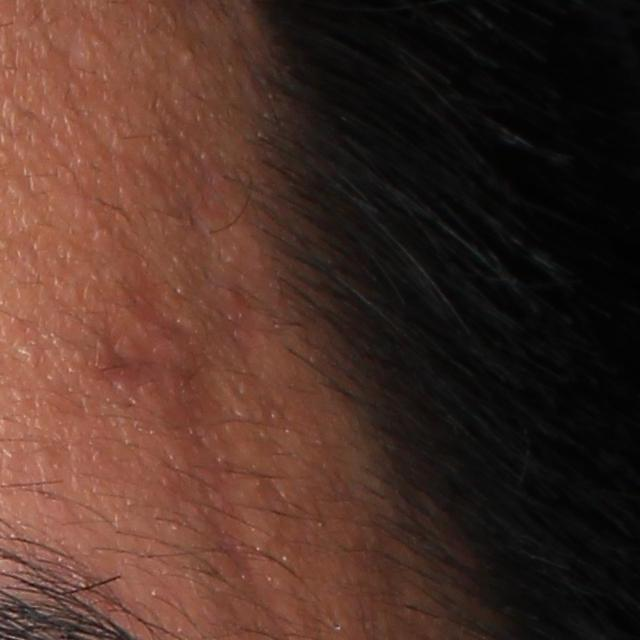comedo: (185, 46, 199, 66)
